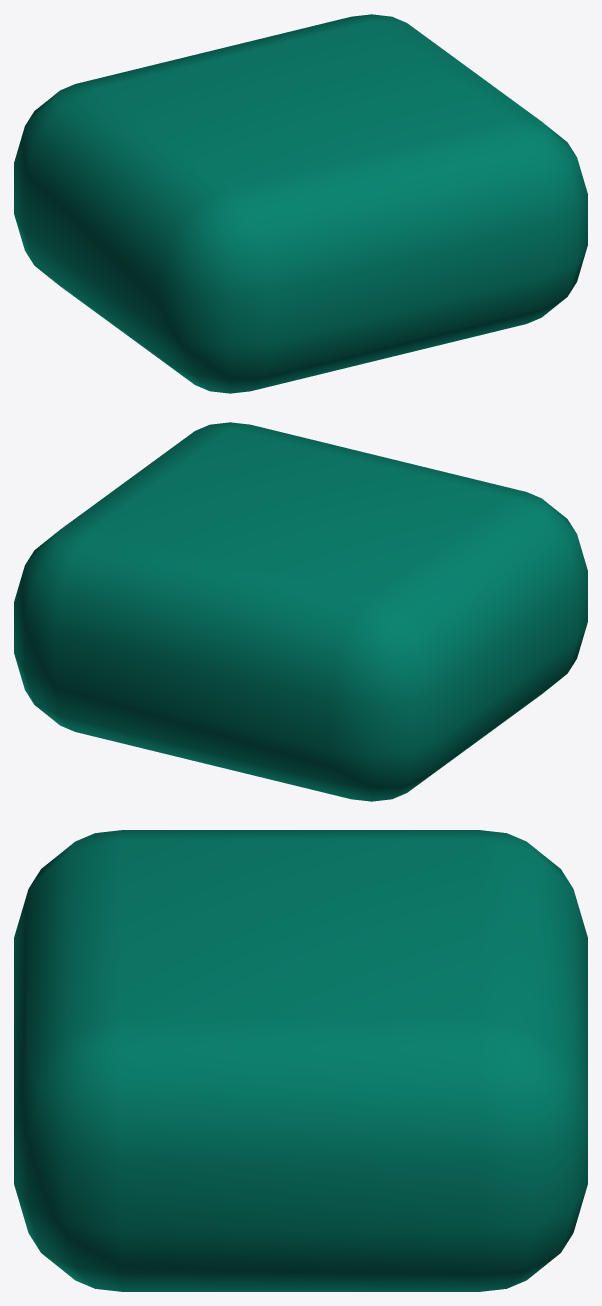
The model's file is martela.fbx.
3 renders of one model, top to bottom at view 1: azimuth 30°, elevation 25°; view 2: azimuth 150°, elevation 25°; view 3: azimuth 270°, elevation 25°, orthographic. The views are drawn at different scales.
Parts seen in each view (by area): view 1: ChamferBox01; view 2: ChamferBox01; view 3: ChamferBox01.
Boxes of the visible parts, x1,y1,x2,y2 form: ChamferBox01: (14, 14, 587, 393); ChamferBox01: (14, 422, 587, 801); ChamferBox01: (14, 830, 587, 1291).
Bounding box in the file's own units: 9674 × 4399 × 8682.
